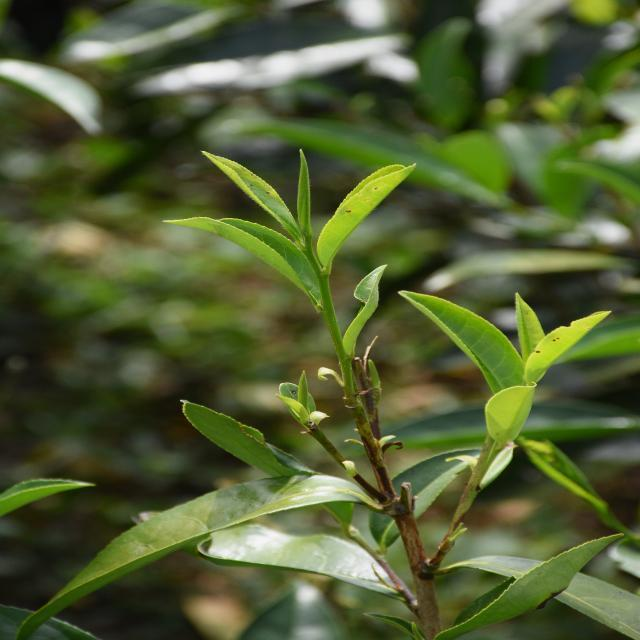Stem: (318, 271, 328, 283)
